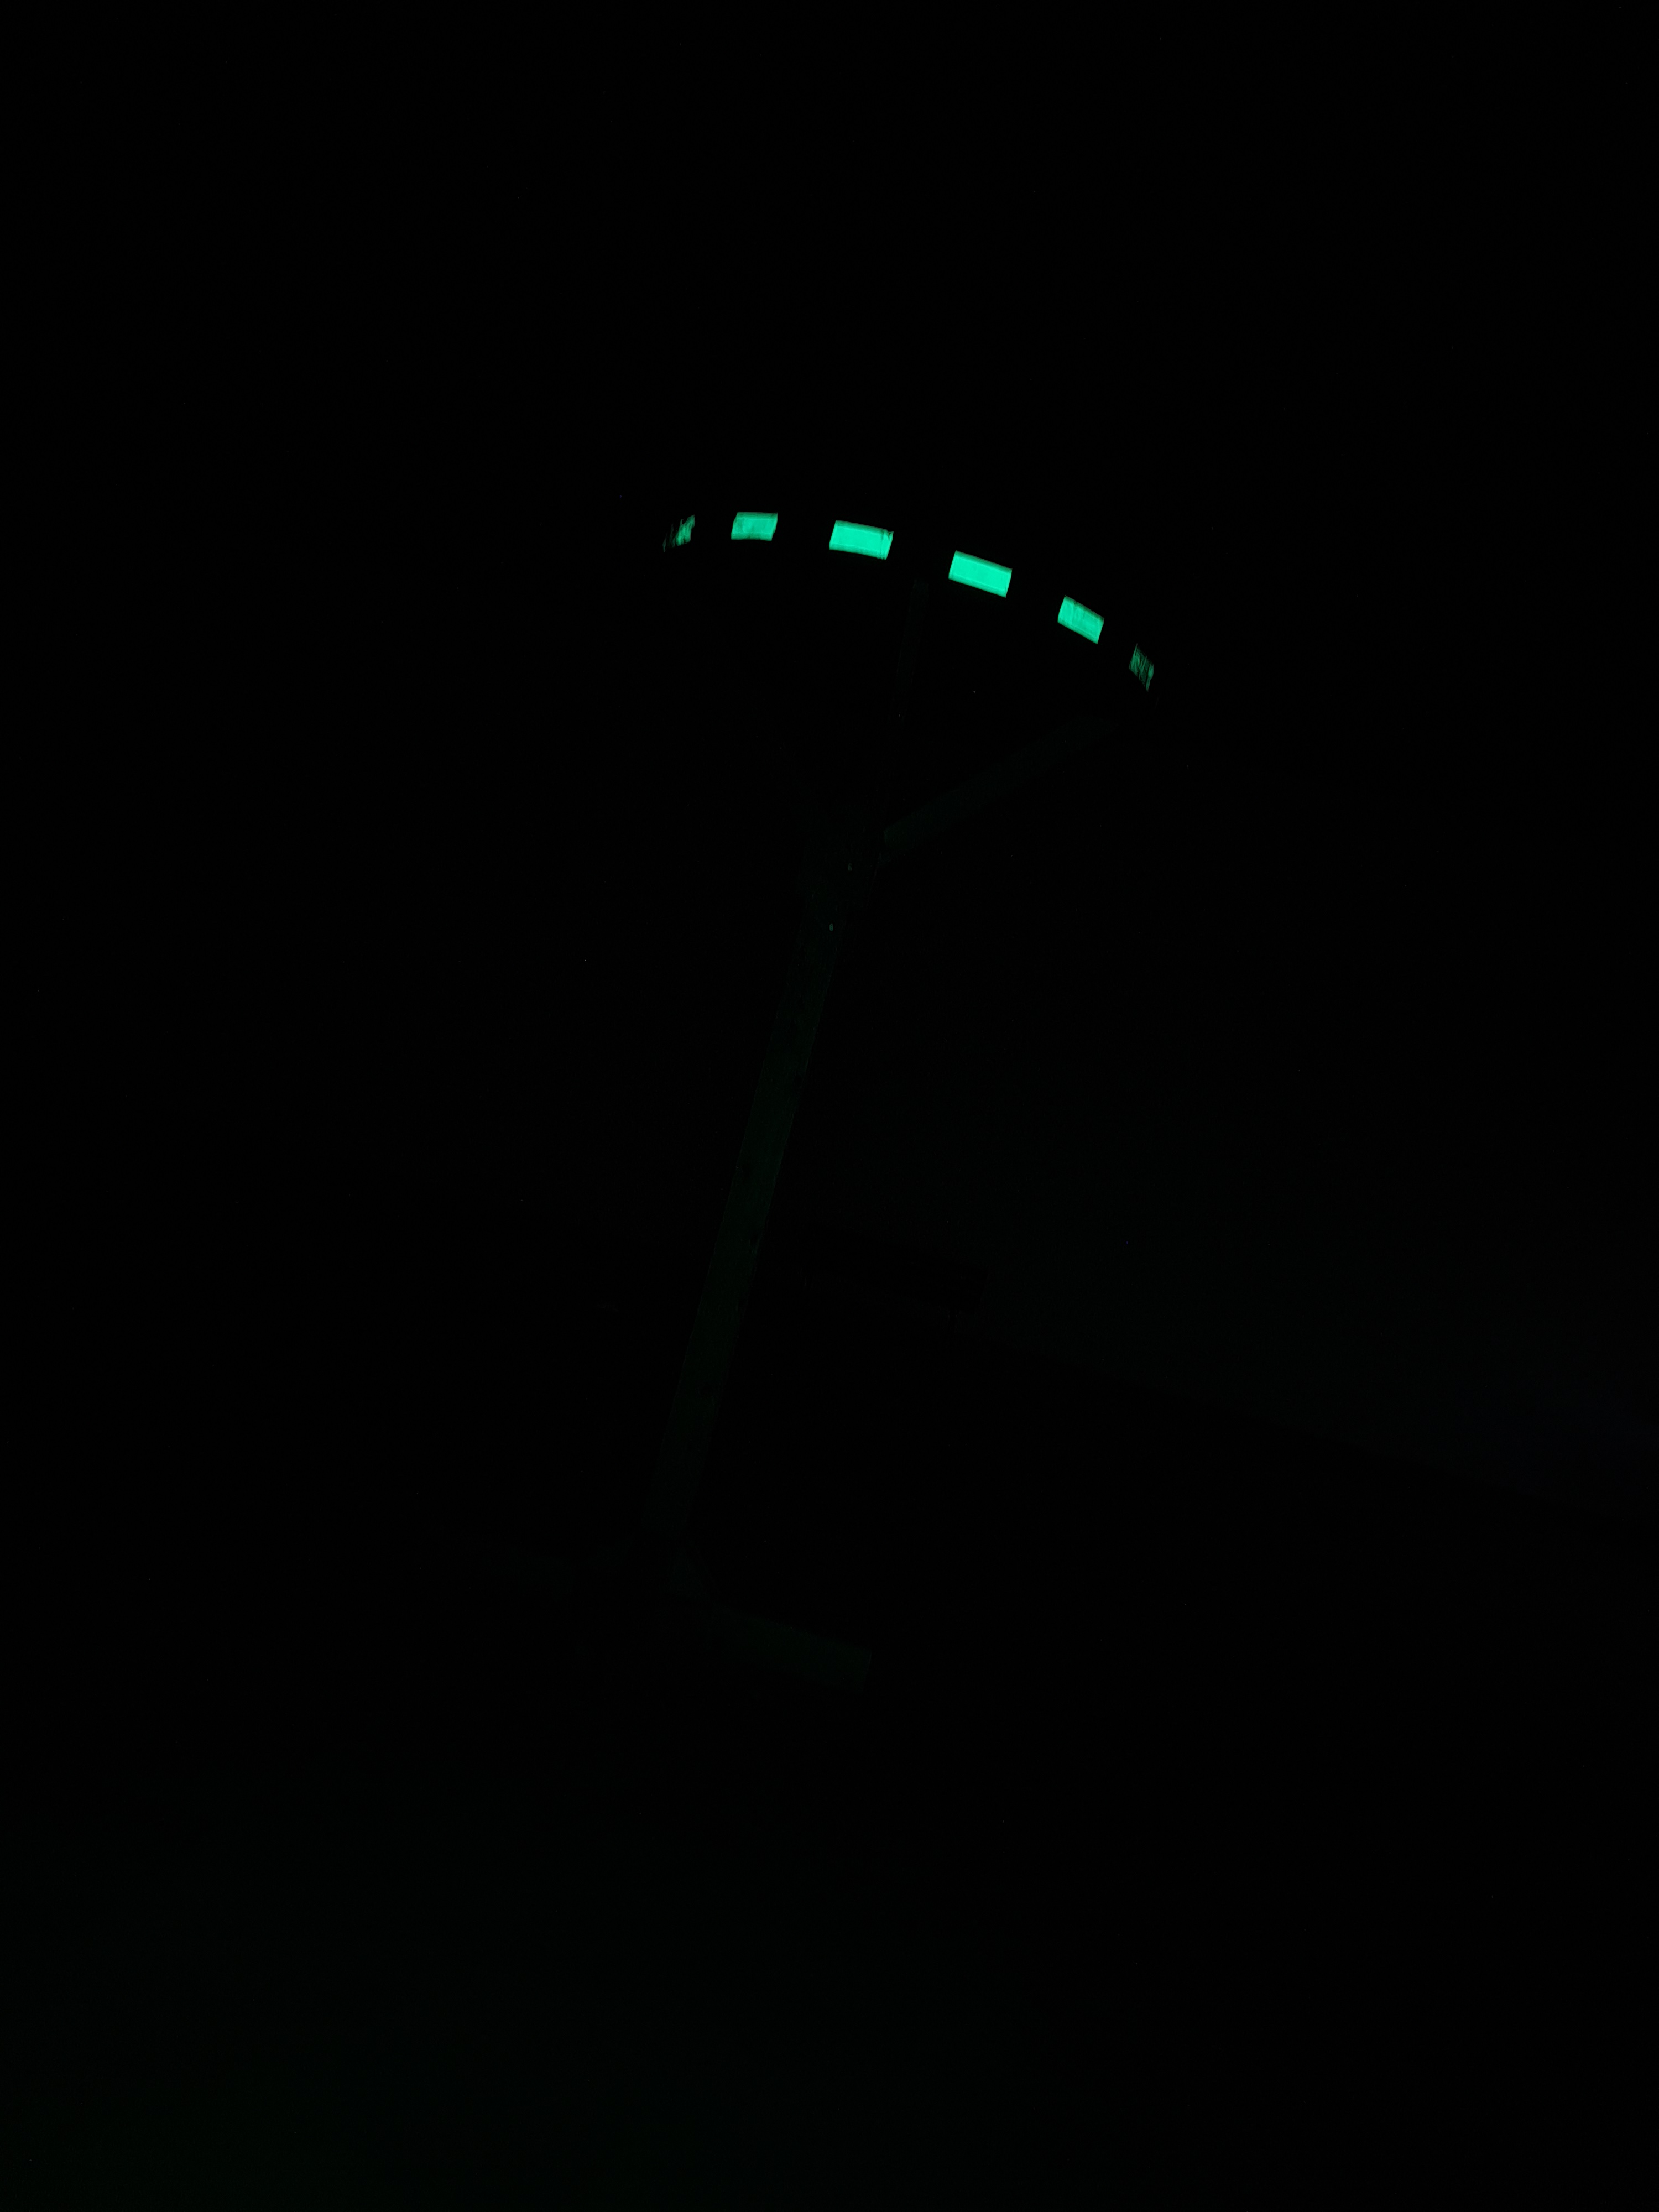hoop: (657, 498, 1161, 704)
